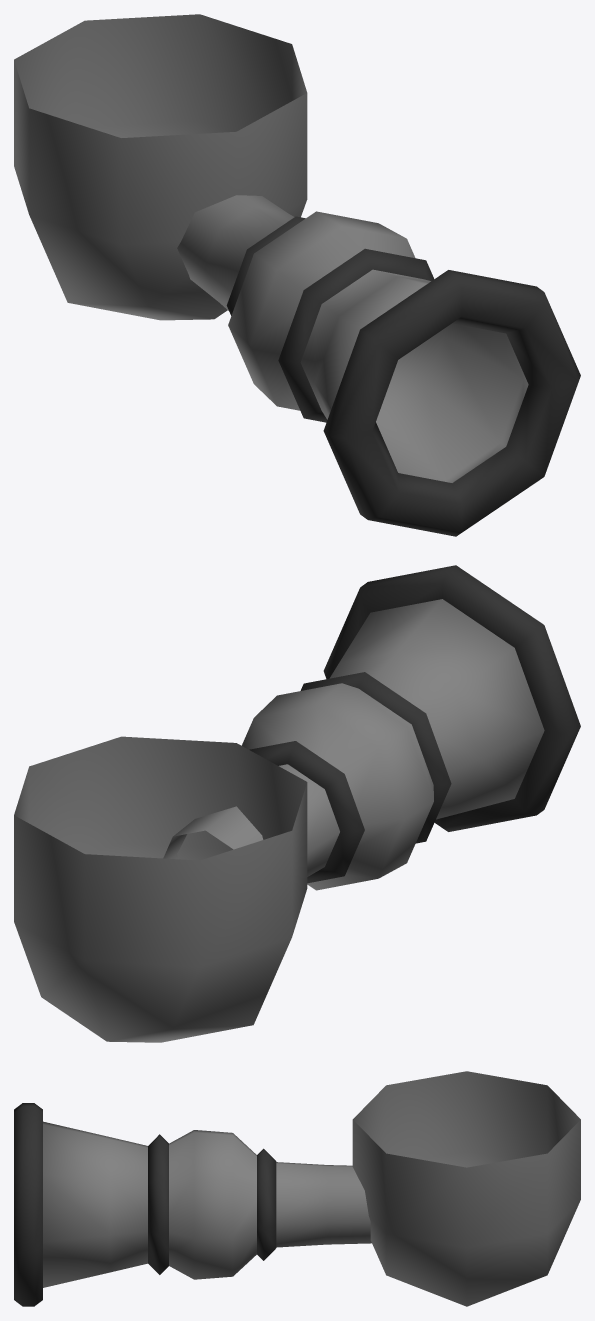
File: Turret_02_H.fbx
The picture shows the model from 3 angles, top to bottom: view 1: azimuth 30°, elevation 25°; view 2: azimuth 150°, elevation 25°; view 3: azimuth 270°, elevation 25°; orthographic projection. The views are drawn at different scales.
Visible parts, largest first — view 1: Object002; view 2: Object002; view 3: Object002.
Part boxes in pixels (bbox=[...]): Object002: bbox=[14, 14, 580, 536]; Object002: bbox=[14, 565, 580, 1042]; Object002: bbox=[14, 1071, 580, 1306].
Bounding box in the file's own units: 14.96 × 14.21 × 37.17.
1 material, 1 textured.
